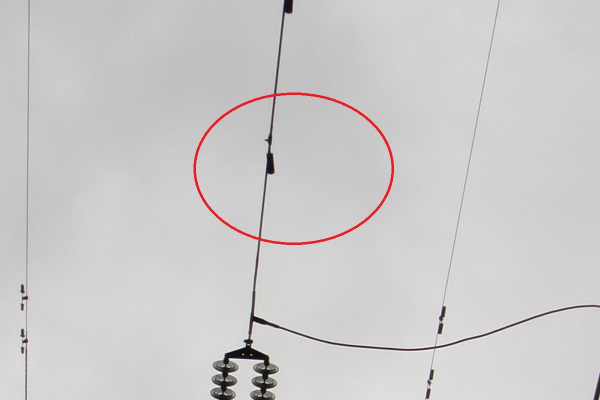damper: (423, 368, 435, 399), (17, 282, 29, 312), (18, 327, 30, 356), (436, 305, 447, 335)
damper_defect: (263, 129, 276, 176)
